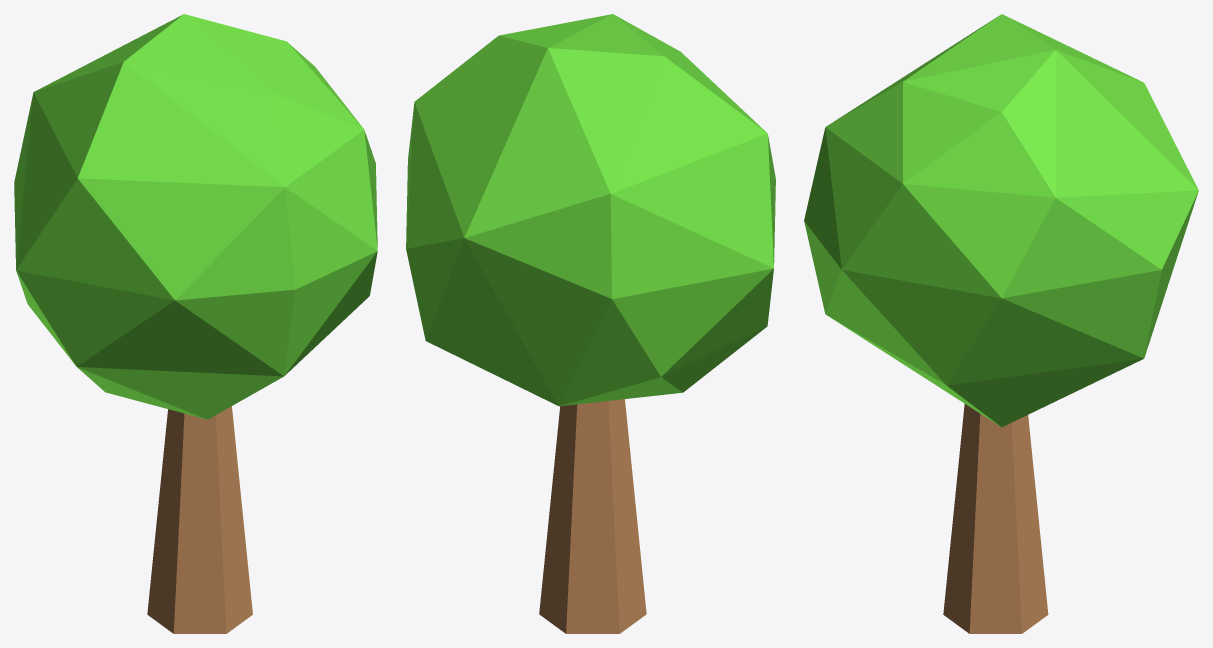
The model's file is tree1.fbx.
3 views of the same model, side by side, from view 1: azimuth 30°, elevation 25°; view 2: azimuth 150°, elevation 25°; view 3: azimuth 270°, elevation 25° (orthographic). The views are drawn at different scales.
Parts seen in each view (by area): view 1: Icosphere, Cylinder; view 2: Icosphere, Cylinder; view 3: Icosphere, Cylinder.
Boxes of the visible parts, x1,y1,x2,y2 form: Icosphere: (14,14,377,419); Cylinder: (147,406,252,633); Icosphere: (406,14,775,406); Cylinder: (539,399,646,633); Icosphere: (804,14,1198,427); Cylinder: (943,404,1048,633).
Size of the model in its own units: 298 by 455 by 285.
